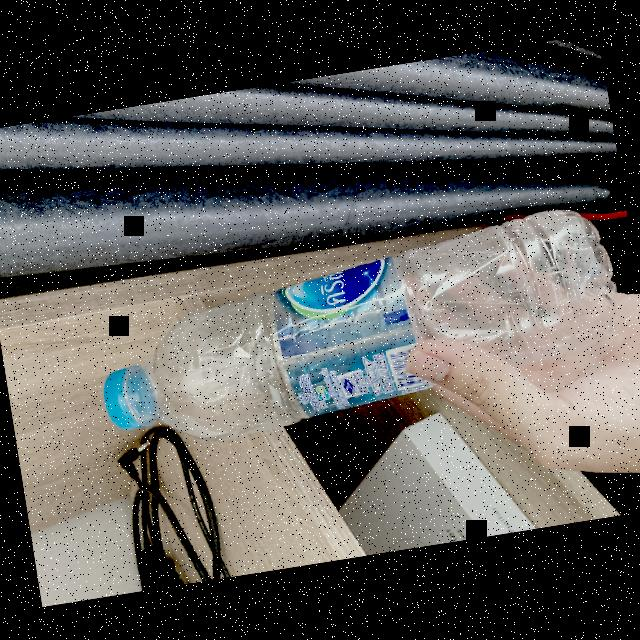plastic_bottle: (67, 198, 633, 461)
plastic_bottle_cap: (96, 361, 160, 434)
